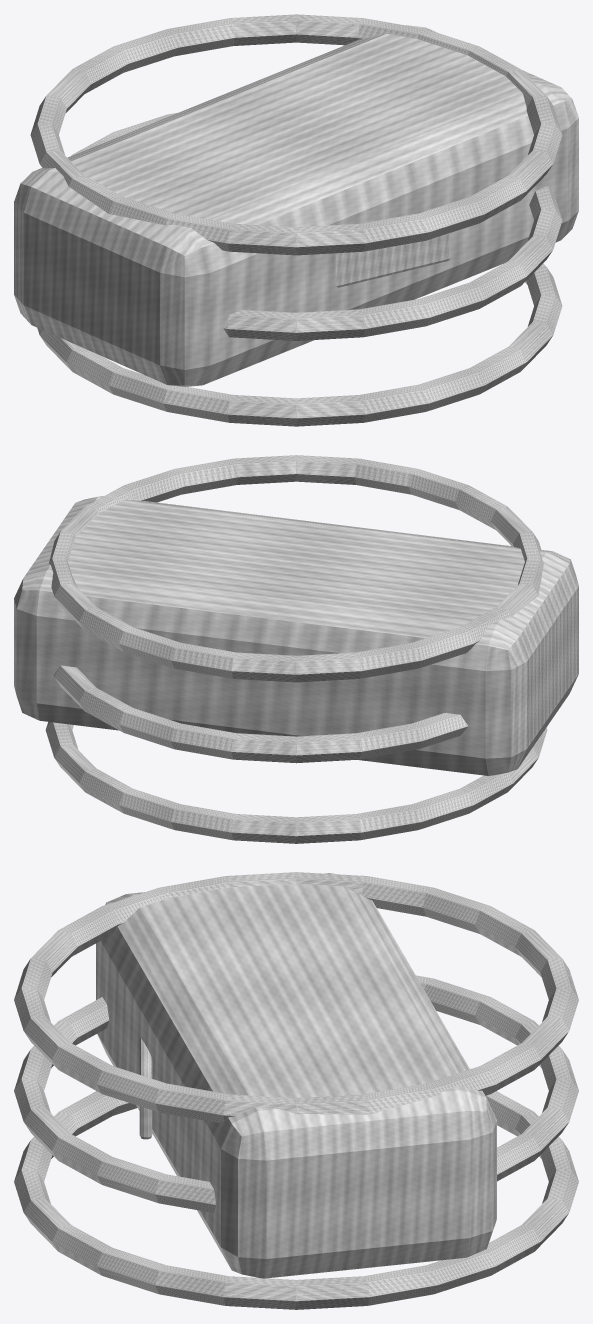
File: item-iron-ingot_variant_c.glb
3 renders of one model, top to bottom at view 1: azimuth 30°, elevation 25°; view 2: azimuth 150°, elevation 25°; view 3: azimuth 270°, elevation 25°, orthographic. The views are drawn at different scales.
Visible parts, largest first — view 1: Metal ingot.002, Variant collar.002, Variant collar, Variant collar.001, Ingot stamped mark.002; view 2: Metal ingot.002, Variant collar.002, Variant collar, Variant collar.001; view 3: Metal ingot.002, Variant collar.002, Variant collar, Variant collar.001, Ingot stamped mark.002.
Boxes of the visible parts, bbox=[...] form: Metal ingot.002: bbox=[14, 25, 578, 386]; Variant collar.002: bbox=[30, 14, 562, 255]; Variant collar: bbox=[37, 263, 562, 426]; Variant collar.001: bbox=[71, 112, 562, 340]; Ingot stamped mark.002: bbox=[335, 233, 450, 287]; Metal ingot.002: bbox=[14, 496, 578, 775]; Variant collar.002: bbox=[49, 455, 543, 682]; Variant collar: bbox=[45, 722, 547, 843]; Variant collar.001: bbox=[53, 665, 468, 763]; Metal ingot.002: bbox=[96, 873, 496, 1278]; Variant collar.002: bbox=[14, 872, 578, 1123]; Variant collar: bbox=[14, 1091, 578, 1309]; Variant collar.001: bbox=[14, 975, 578, 1212]; Ingot stamped mark.002: bbox=[139, 1038, 152, 1139].
Size of what is drawn, in the model's own units: 0.7588 by 0.2712 by 0.676.
3 materials, 3 textured.
